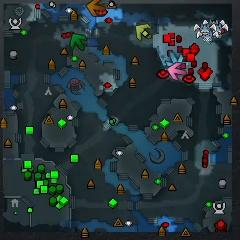x1: (168, 63, 188, 81)
x2: (136, 24, 152, 40)
x3: (166, 51, 183, 67)
x4: (70, 33, 86, 50)
x5: (87, 0, 105, 17)
